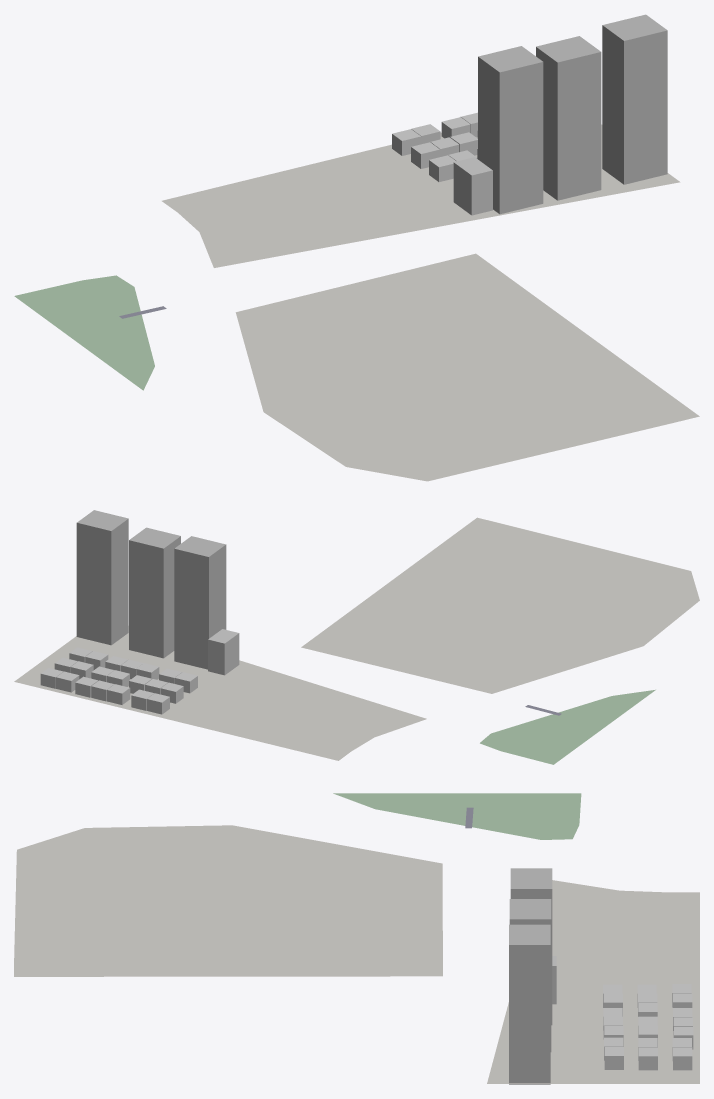
The model's file is 124_125_mid.glb.
3 views of the same model, one above another, from view 1: azimuth 30°, elevation 25°; view 2: azimuth 150°, elevation 25°; view 3: azimuth 270°, elevation 25° (orthographic). The views are drawn at different scales.
Bounding box in the file's own units: 500 × 112 × 500.
